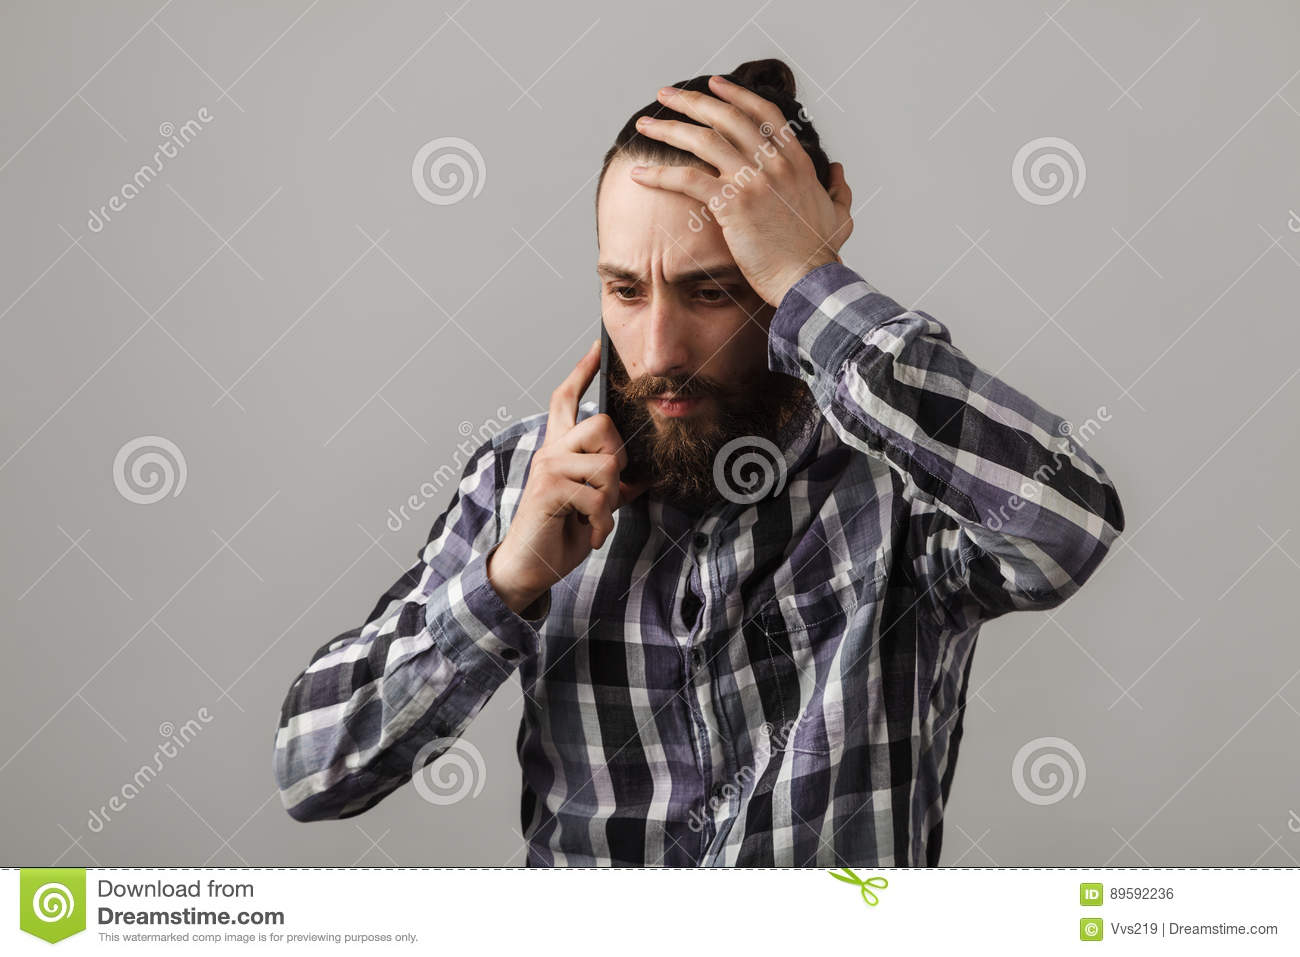phone: (590, 309, 651, 494)
talk: (504, 253, 756, 574)
